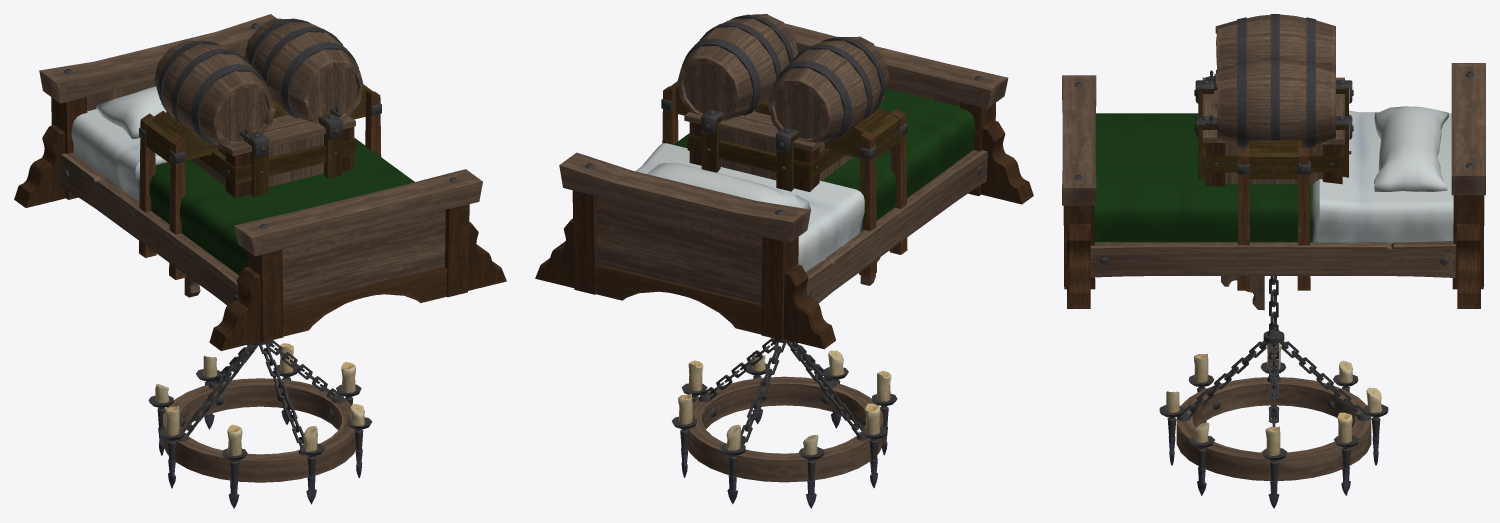
Rendered from props_q.glb.
3 renders of one model, left to right at view 1: azimuth 30°, elevation 25°; view 2: azimuth 150°, elevation 25°; view 3: azimuth 270°, elevation 25°, orthographic.
Parts seen in each view (by area): view 1: Bed_Twin2, Barrel_Holder, Chandelier, Crate_Wooden; view 2: Bed_Twin2, Barrel_Holder, Chandelier, Crate_Wooden; view 3: Bed_Twin2, Barrel_Holder, Chandelier, Crate_Wooden, Shelf_Simple.
Boxes of the visible parts, x1=… form: Bed_Twin2: x1=14, y1=14, x2=506, y2=350; Barrel_Holder: x1=139, y1=18, x2=381, y2=279; Chandelier: x1=148, y1=340, x2=372, y2=508; Crate_Wooden: x1=161, y1=103, x2=356, y2=197; Bed_Twin2: x1=535, y1=23, x2=1033, y2=349; Barrel_Holder: x1=661, y1=14, x2=907, y2=277; Chandelier: x1=672, y1=338, x2=897, y2=508; Crate_Wooden: x1=684, y1=94, x2=884, y2=191; Bed_Twin2: x1=1062, y1=63, x2=1485, y2=308; Barrel_Holder: x1=1205, y1=14, x2=1335, y2=290; Chandelier: x1=1159, y1=276, x2=1388, y2=508; Crate_Wooden: x1=1194, y1=77, x2=1353, y2=186; Shelf_Simple: x1=1221, y1=276, x2=1264, y2=310.
Size of the model in its own units: 1.88 by 2.67 by 2.41.
5 materials, 5 textured.
